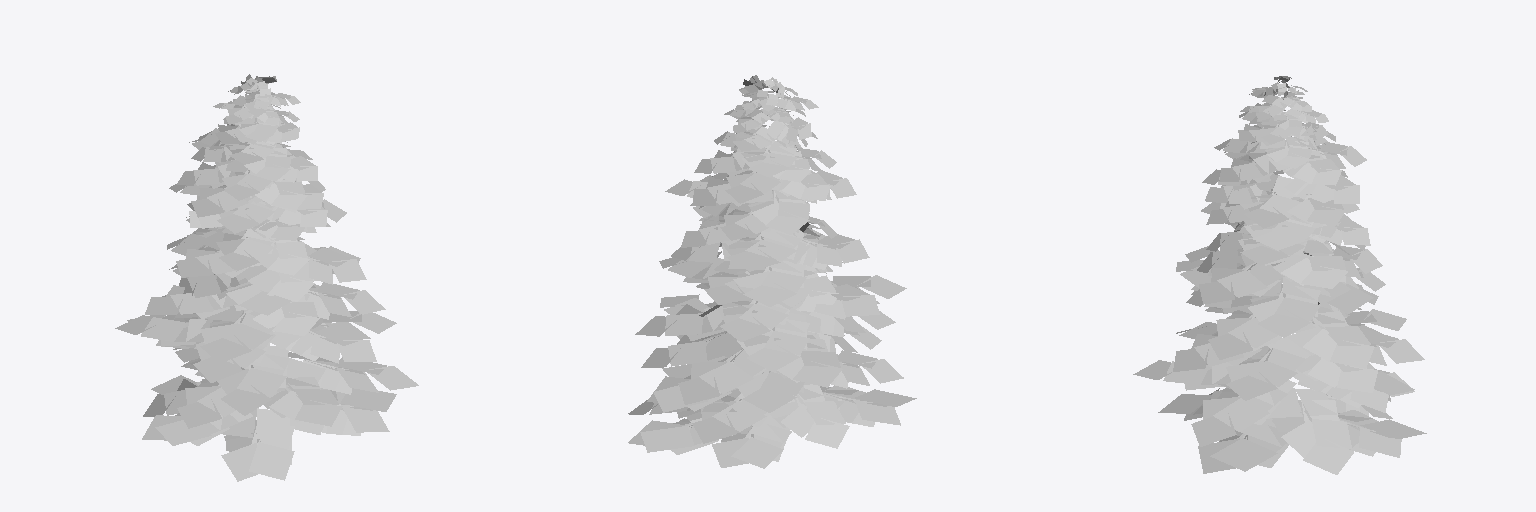
File: tree_foliage_lod2.obj
3 views of the same model, side by side, from view 1: azimuth 30°, elevation 25°; view 2: azimuth 150°, elevation 25°; view 3: azimuth 270°, elevation 25° (orthographic).
Size of the model in its own units: 4.66 by 6.42 by 4.79.